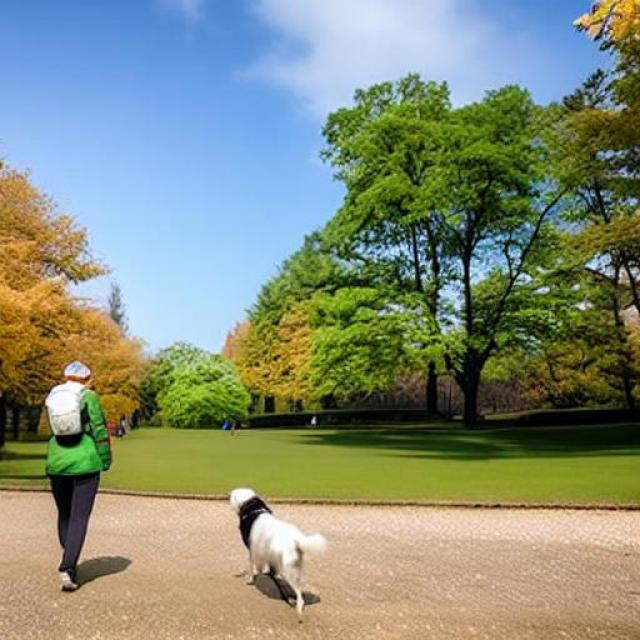Unleashed_Dog: (51, 474, 328, 614)
